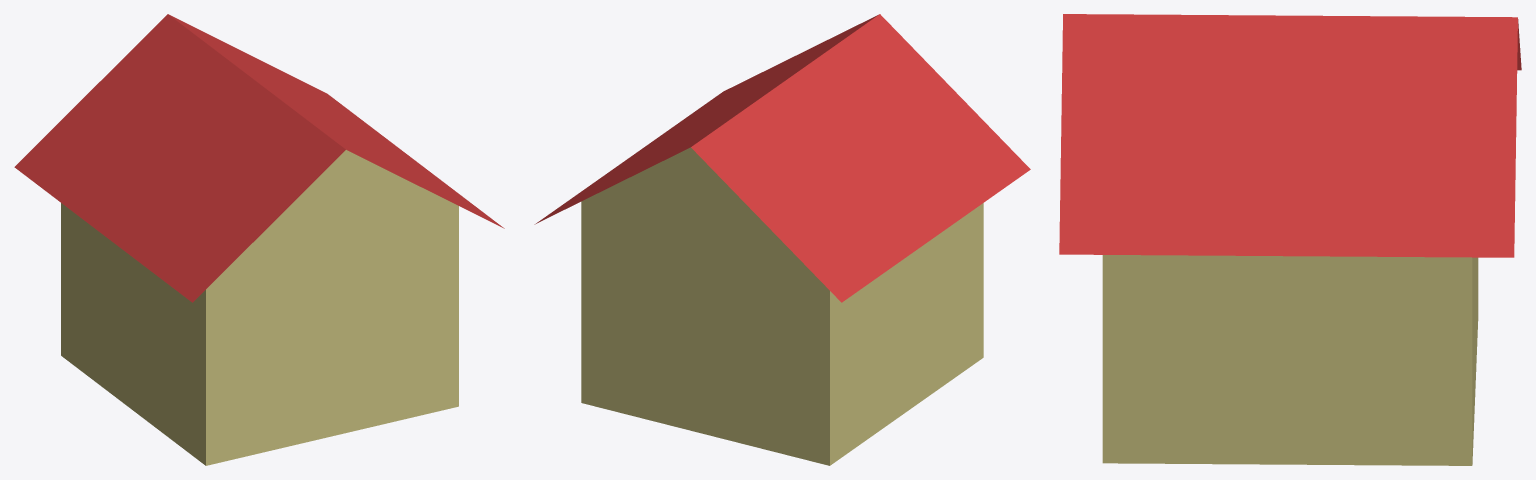
3 renders of one model, left to right at view 1: azimuth 30°, elevation 25°; view 2: azimuth 150°, elevation 25°; view 3: azimuth 270°, elevation 25°, orthographic. The views are drawn at different scales.
Size of the model in its own units: 10.6 by 10.87 by 9.64.
